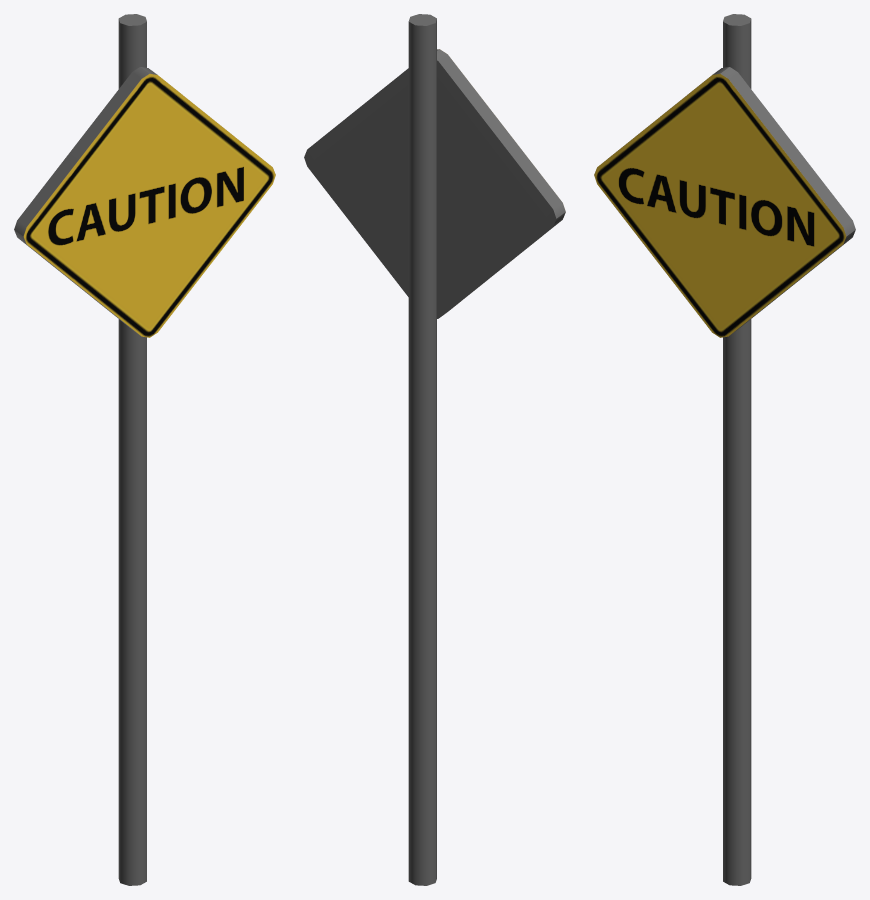
Rendered from sm_cautionSign_GEO.fbx.
3 views of the same model, side by side, from view 1: azimuth 30°, elevation 25°; view 2: azimuth 150°, elevation 25°; view 3: azimuth 330°, elevation 25° (orthographic).
Visible parts, largest first — view 1: sm_cautionSign_GEO; view 2: sm_cautionSign_GEO; view 3: sm_cautionSign_GEO.
Part boxes in pixels (x1,y1,x2,y2): sm_cautionSign_GEO: [14, 14, 275, 885]; sm_cautionSign_GEO: [304, 14, 565, 885]; sm_cautionSign_GEO: [594, 14, 855, 885].
Size of the model in its own units: 1.08 by 3.5 by 0.1786.
Materials: 1 (1 with a texture image).
